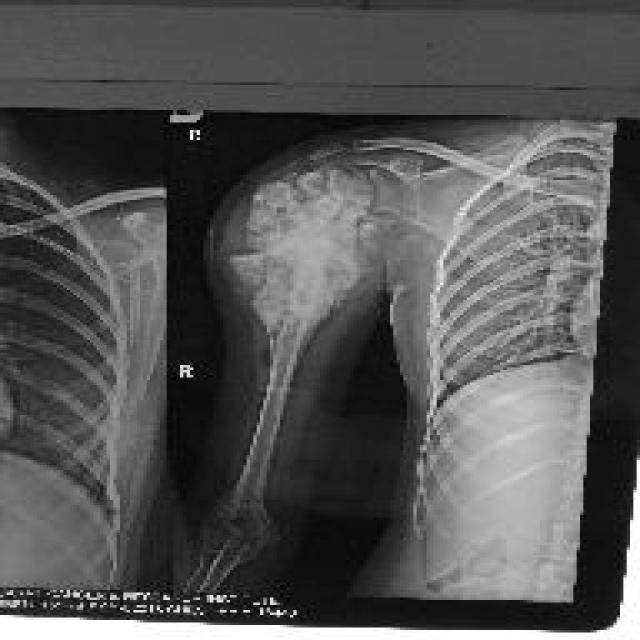bone-cancer: (230, 152, 400, 347)
